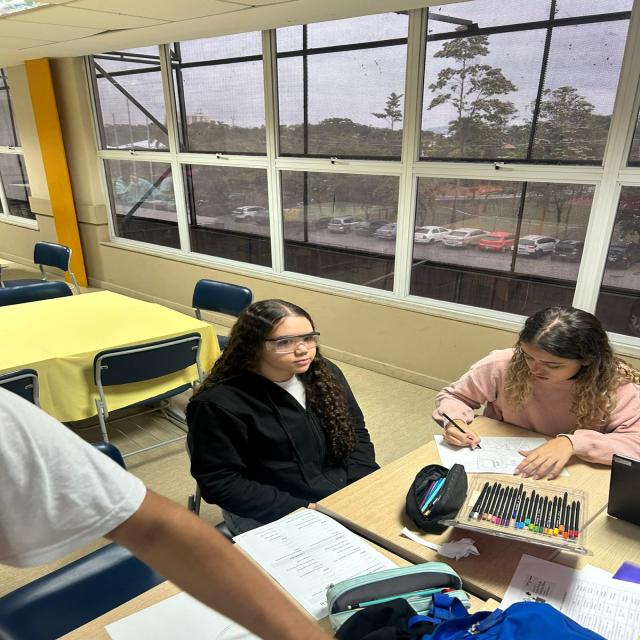oculos-epi: (266, 331, 321, 353)
sem_oculos: (515, 342, 593, 373)
